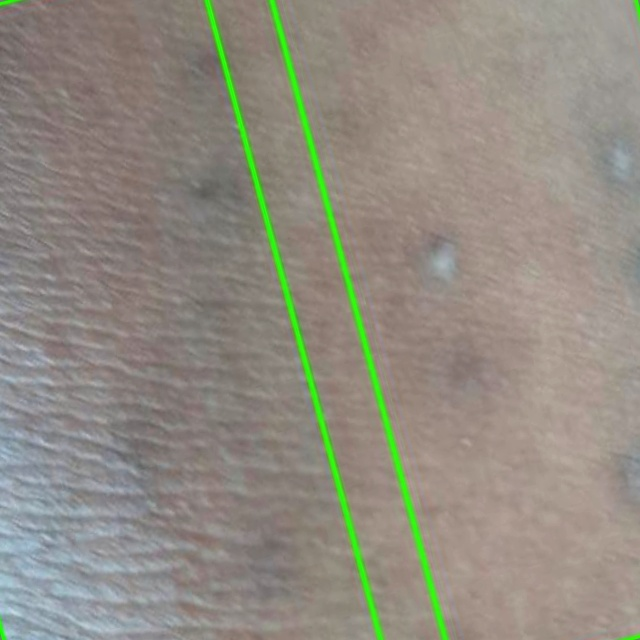Scabies: (0, 0, 445, 639), (207, 0, 639, 639)
